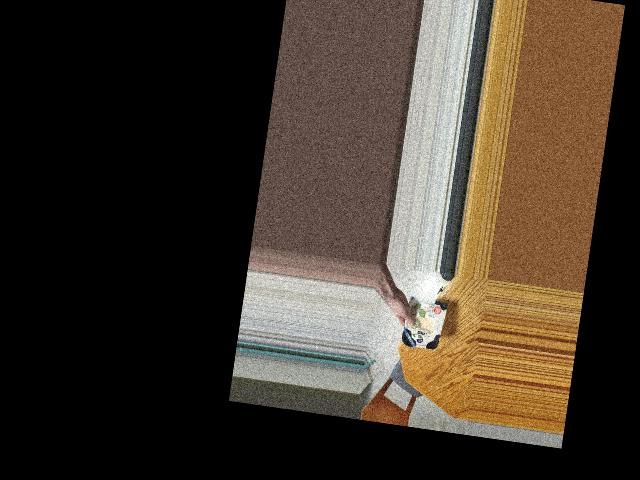cheese: (401, 287, 449, 359)
